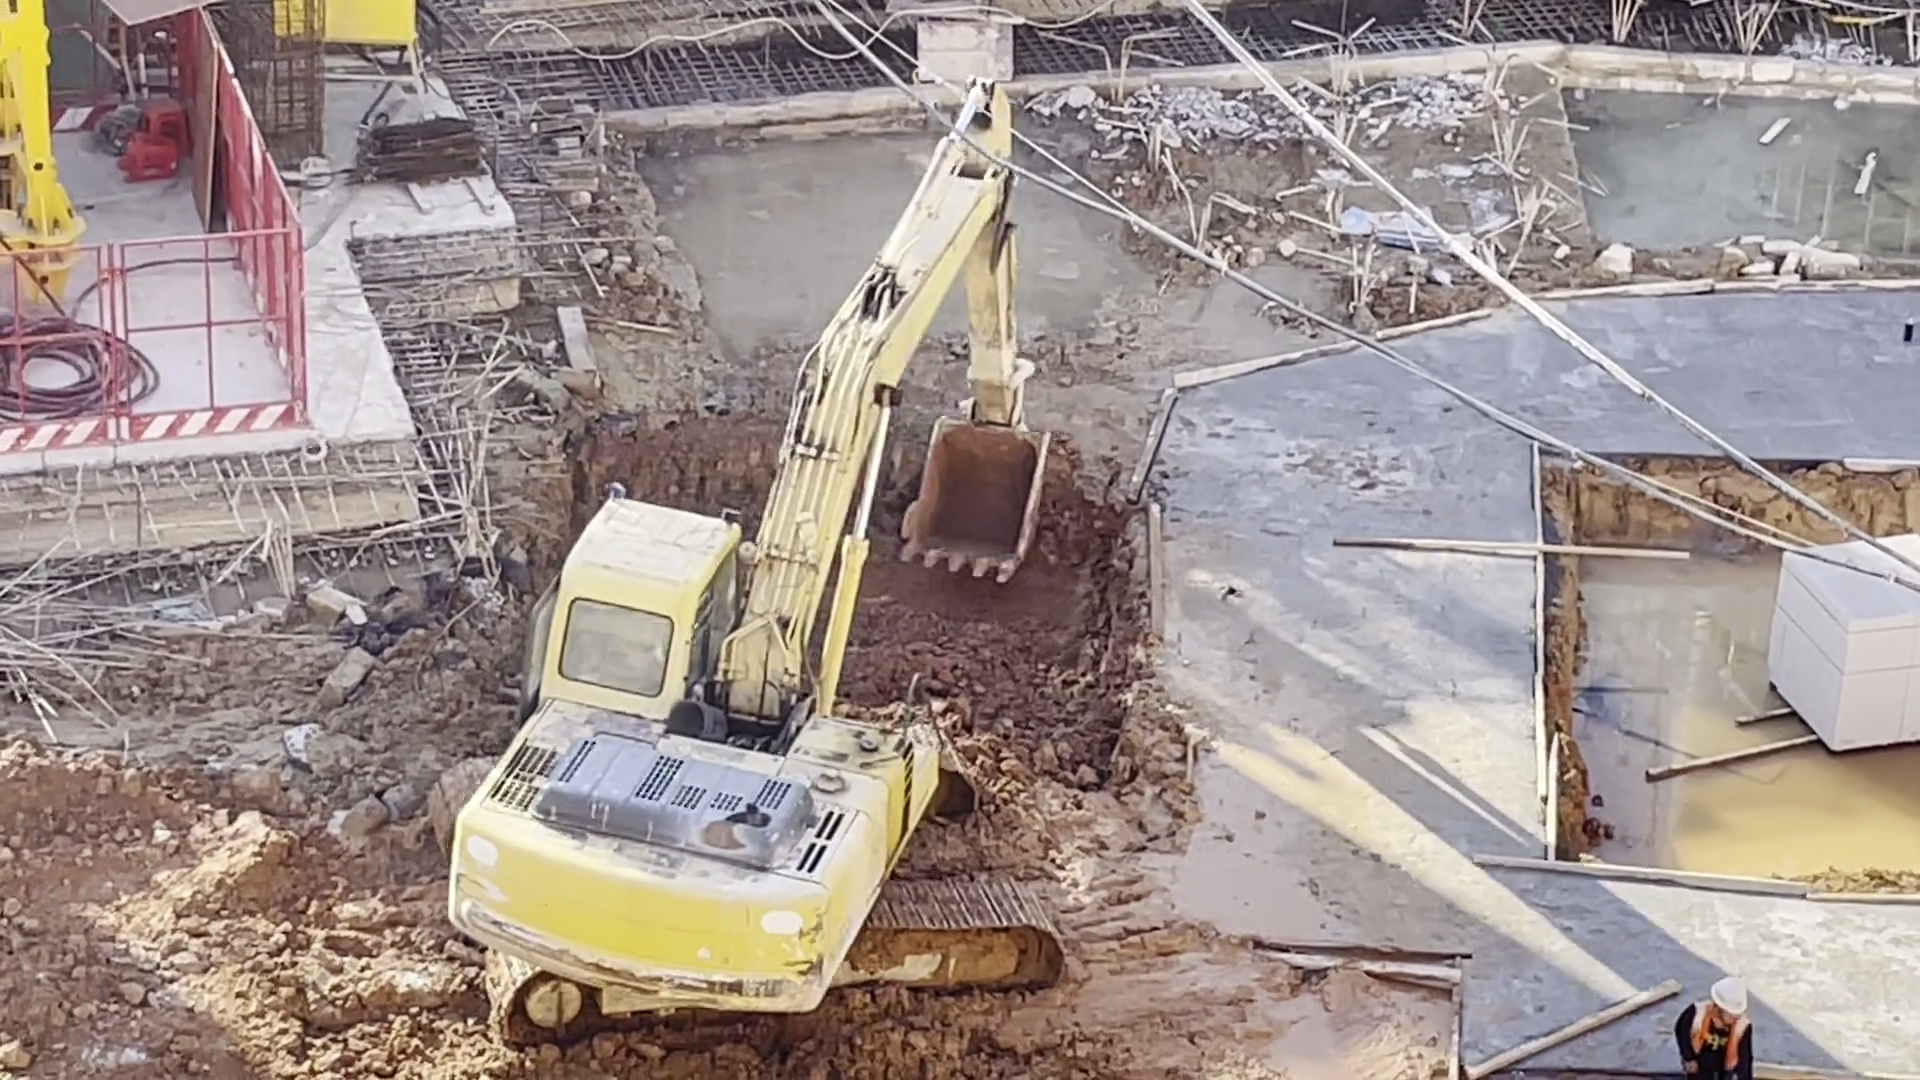brick: (1771, 590, 1920, 760)
ebox: (333, 4, 432, 117)
fence: (14, 222, 297, 439), (213, 58, 306, 434)
person: (1670, 976, 1766, 1080), (1703, 978, 1749, 1019)
